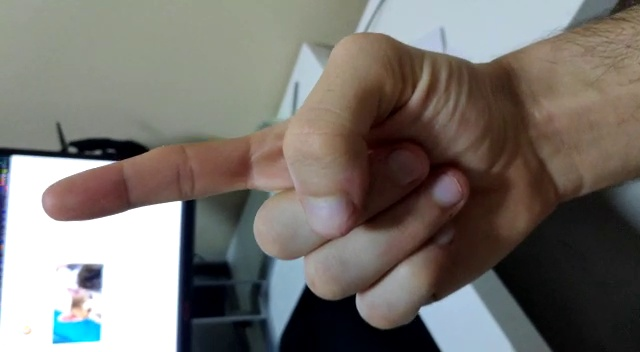One: (26, 3, 563, 341)
